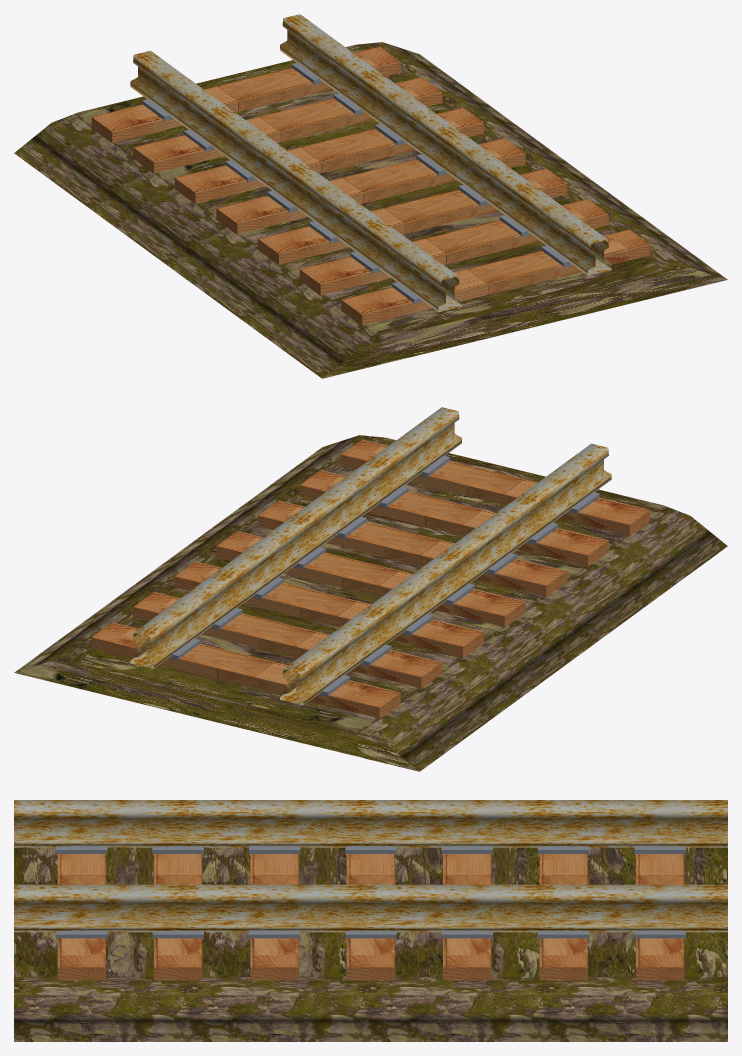
Rendered from track_straight.glb.
The picture shows the model from 3 angles, top to bottom: view 1: azimuth 30°, elevation 25°; view 2: azimuth 150°, elevation 25°; view 3: azimuth 270°, elevation 25°; orthographic projection. The views are drawn at different scales.
Visible parts, largest first — view 1: RootNode; view 2: RootNode; view 3: RootNode.
Boxes of the visible parts, left/top/right/bottom form: RootNode: left=14, top=14, right=727, bottom=378; RootNode: left=14, top=407, right=727, bottom=771; RootNode: left=14, top=800, right=727, bottom=1041.
Size of the model in its own units: 0.76 by 0.124 by 1.
Materials: 4 (3 with a texture image).
